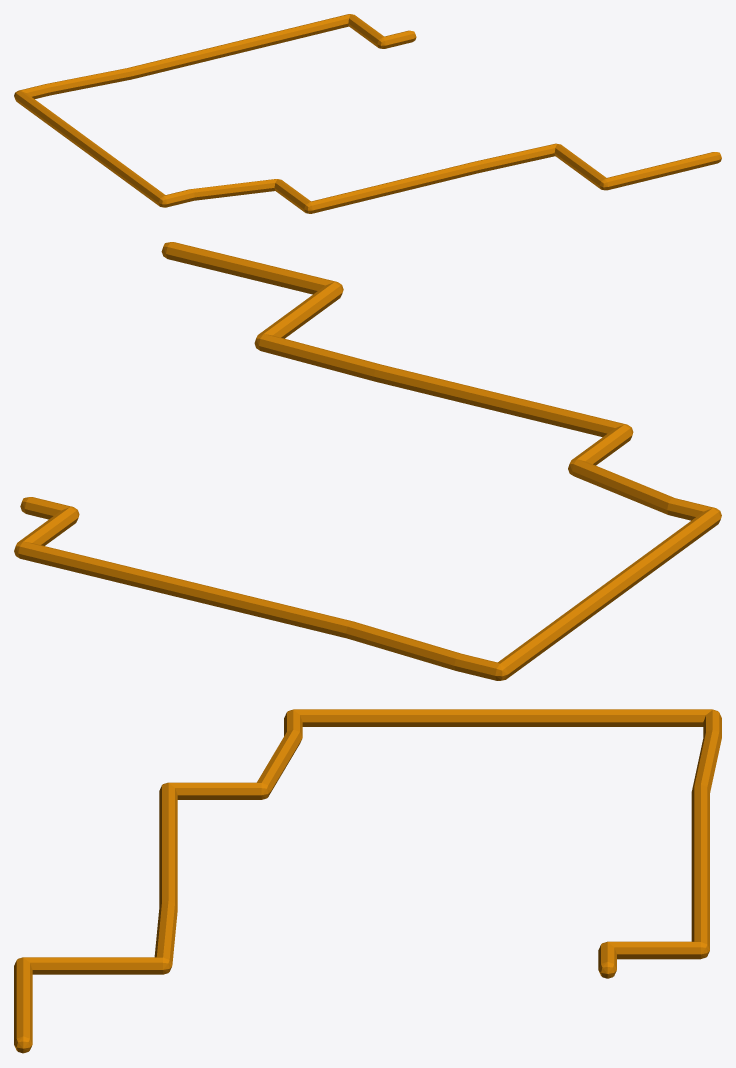
3 views of the same model, one above another, from view 1: azimuth 30°, elevation 25°; view 2: azimuth 150°, elevation 25°; view 3: azimuth 270°, elevation 25° (orthographic). The views are drawn at different scales.
Size of the model in its own units: 849 by 20 by 760.
